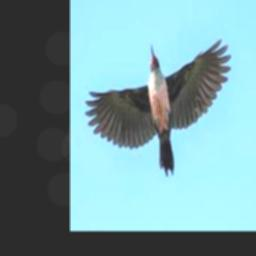Woodpecker: (85, 39, 231, 177)
